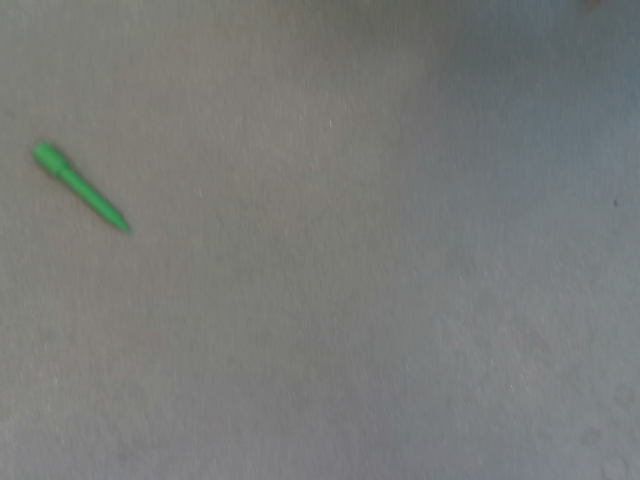Probe: (28, 134, 140, 244)
